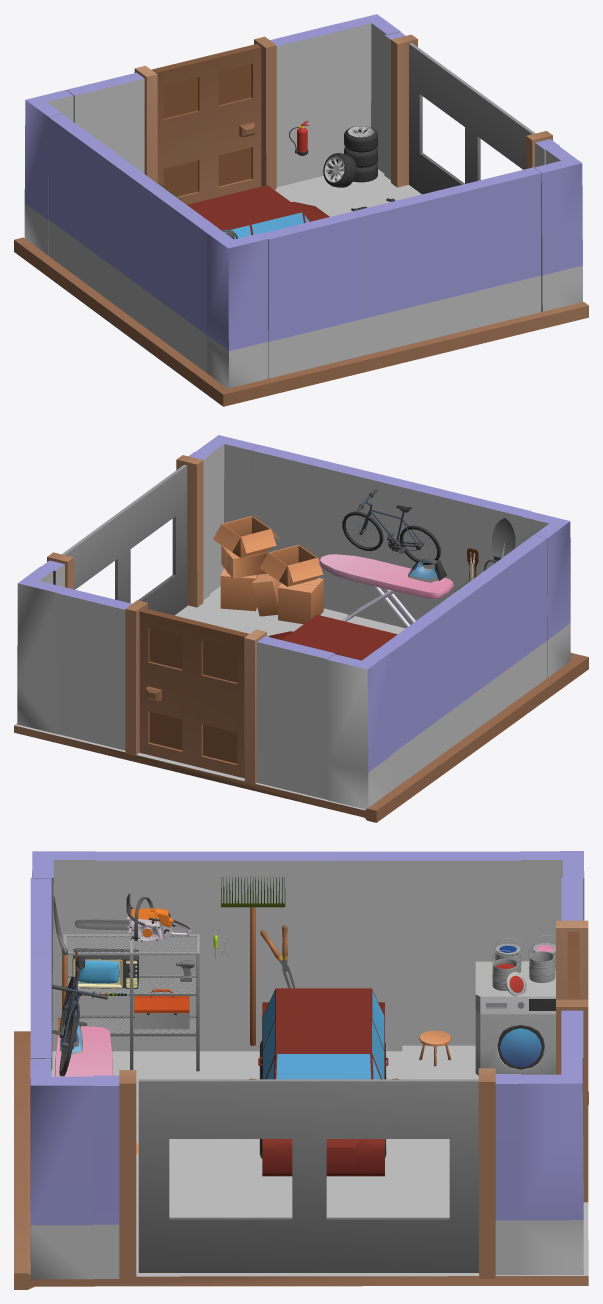
The model's file is GARAJE.fbx.
3 renders of one model, top to bottom at view 1: azimuth 30°, elevation 25°; view 2: azimuth 150°, elevation 25°; view 3: azimuth 270°, elevation 25°, orthographic. The views are drawn at different scales.
Parts seen in each view (by area): view 1: paret_basica31, paret_basica27, paret_puerta58, puerta44, suelo20, paret_esquina42, puerta_garaje7, paret_esquina40, paret_esquina39, paret_garaje4, paret_esquina_100, cotche3 (+1 smaller); view 2: paret_puerta58, paret_basica27, paret_basica31, puerta44, suelo20, paret_esquina_100, puerta_garaje7, cajas3, paret_esquina39, paret_garaje4, paret_esquina40, paret_esquina42 (+4 smaller); view 3: paret_basica27, puerta_garaje7, suelo20, paret_garaje4, cotche3, paret_esquina40, paret_esquina39, lavadora3, paret_esquina42, paret_puerta58, estanteria8, paret_esquina_100 (+11 smaller).
Boxes of the visible parts, x1=… form: paret_basica31: x1=262, y1=167, x2=541, y2=378; paret_basica27: x1=48, y1=114, x2=218, y2=371; paret_puerta58: x1=66, y1=24, x2=346, y2=189; puerta44: x1=151, y1=44, x2=261, y2=204; suelo20: x1=14, y1=169, x2=588, y2=406; paret_esquina42: x1=204, y1=228, x2=268, y2=388; puerta_garaje7: x1=409, y1=43, x2=535, y2=194; paret_esquina40: x1=534, y1=146, x2=582, y2=311; paret_esquina39: x1=336, y1=14, x2=400, y2=172; paret_garaje4: x1=384, y1=32, x2=559, y2=187; paret_esquina_100: x1=24, y1=90, x2=73, y2=255; cotche3: x1=187, y1=185, x2=329, y2=239; paret_puerta58: x1=56, y1=587, x2=334, y2=799; paret_basica27: x1=378, y1=535, x2=547, y2=790; paret_basica31: x1=252, y1=445, x2=531, y2=628; puerta44: x1=139, y1=608, x2=248, y2=778; suelo20: x1=14, y1=586, x2=588, y2=822; paret_esquina_100: x1=327, y1=649, x2=391, y2=809; puerta_garaje7: x1=62, y1=464, x2=187, y2=615; cajas3: x1=213, y1=516, x2=323, y2=624; paret_esquina39: x1=17, y1=566, x2=65, y2=734; paret_garaje4: x1=42, y1=451, x2=209, y2=607; paret_esquina40: x1=196, y1=435, x2=258, y2=593; paret_esquina42: x1=522, y1=511, x2=570, y2=677; paret_basica27: x1=95, y1=851, x2=522, y2=1051; puerta_garaje7: x1=138, y1=1079, x2=478, y2=1272; suelo20: x1=14, y1=1031, x2=588, y2=1289; paret_garaje4: x1=93, y1=1068, x2=521, y2=1280; cotche3: x1=249, y1=988, x2=398, y2=1176; paret_esquina40: x1=30, y1=1058, x2=94, y2=1279; paret_esquina39: x1=518, y1=1056, x2=583, y2=1274; lavadora3: x1=475, y1=961, x2=555, y2=1075; paret_esquina42: x1=32, y1=851, x2=95, y2=1068; paret_puerta58: x1=556, y1=878, x2=588, y2=1202; estanteria8: x1=63, y1=934, x2=199, y2=1071; paret_esquina_100: x1=520, y1=851, x2=584, y2=961.
Size of the model in its own units: 896 by 357 by 892.
